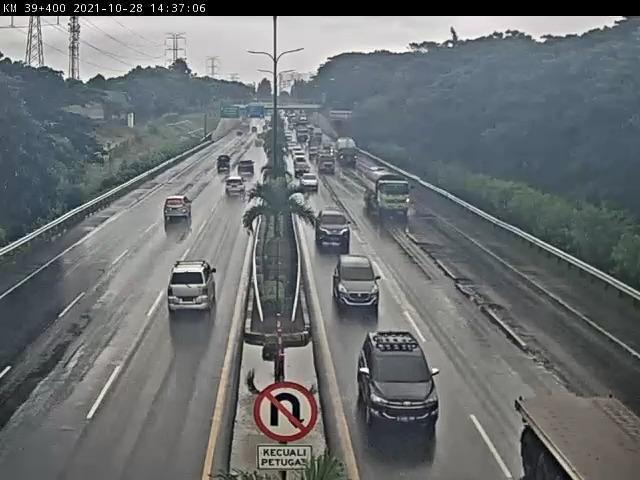car: (356, 327, 446, 435), (329, 250, 386, 313), (165, 260, 219, 318), (313, 209, 355, 254), (160, 193, 199, 230), (223, 170, 251, 197), (298, 172, 321, 196), (237, 157, 258, 175), (217, 154, 234, 173)
truck: (360, 164, 416, 222)
